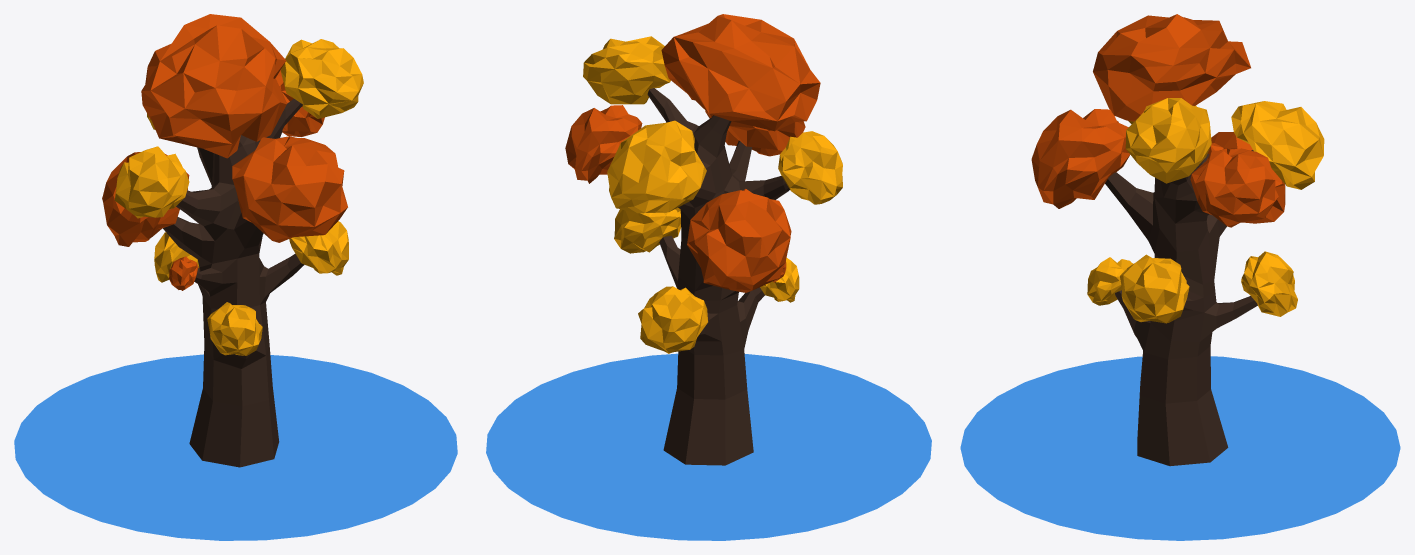
The model's file is TreeRot3.fbx.
3 views of the same model, side by side, from view 1: azimuth 30°, elevation 25°; view 2: azimuth 150°, elevation 25°; view 3: azimuth 270°, elevation 25° (orthographic).
Visible parts, largest first — view 1: Tree.003; view 2: Tree.003; view 3: Tree.003.
Boxes of the visible parts, left/top/right/bottom form: Tree.003: left=14, top=14, right=457, bottom=540; Tree.003: left=486, top=14, right=931, bottom=540; Tree.003: left=960, top=14, right=1400, bottom=540.
Bounding box in the file's own units: 586 × 623 × 586.
